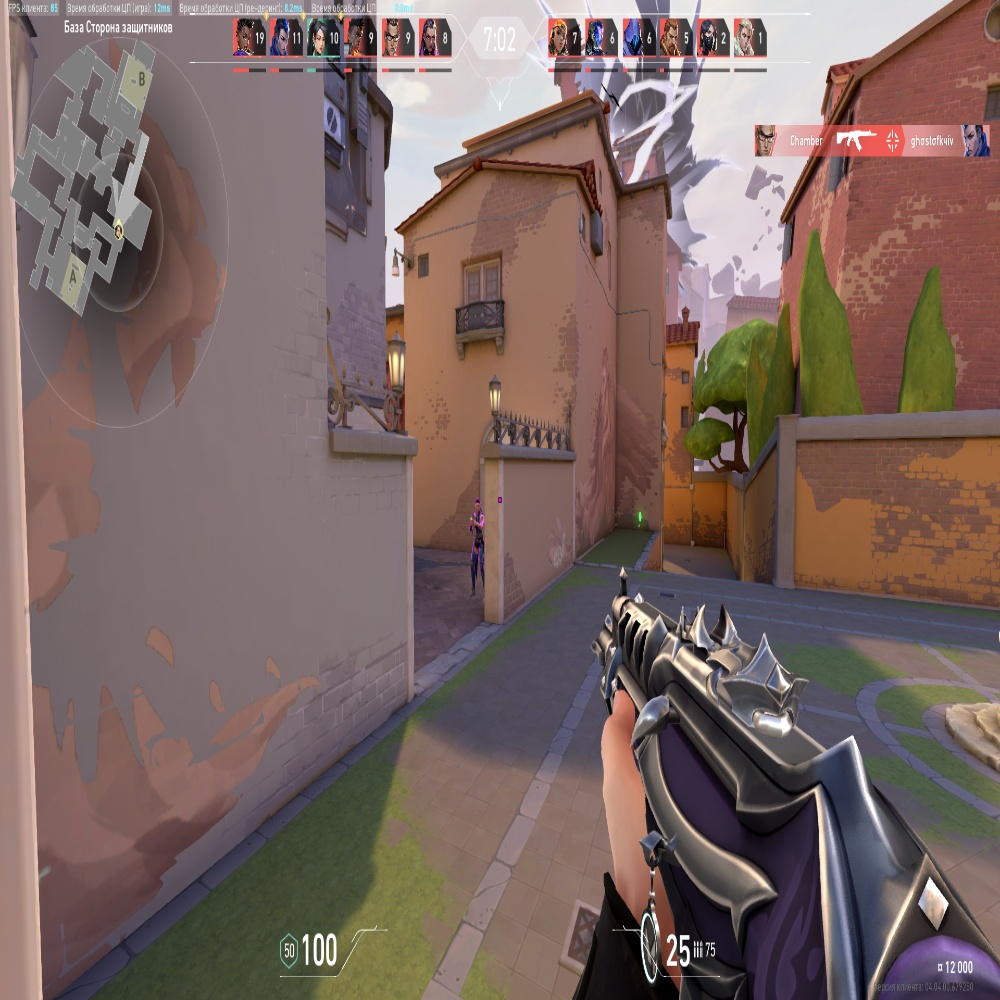body: (472, 514, 484, 544)
head: (474, 500, 481, 512)
